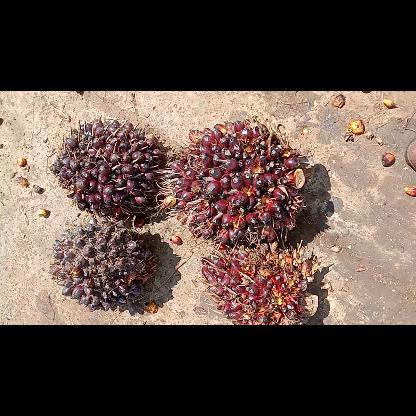Kurang masak: (154, 114, 314, 252), (51, 114, 165, 226), (197, 242, 322, 324), (50, 217, 158, 311)
